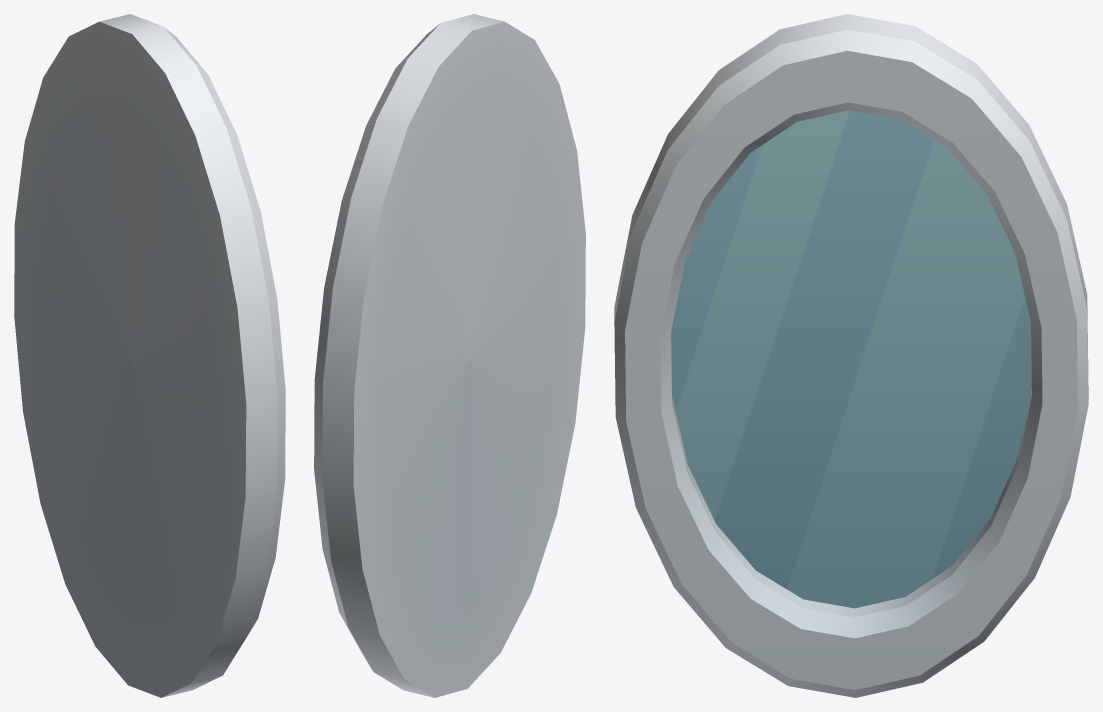
File: Mirror.glb
3 renders of one model, left to right at view 1: azimuth 30°, elevation 25°; view 2: azimuth 150°, elevation 25°; view 3: azimuth 270°, elevation 25°, orthographic. The views are drawn at different scales.
Visible parts, largest first — view 1: mirror; view 2: mirror; view 3: mirror.
Part boxes in pixels (left/top/right/bottom): mirror: left=14, top=14, right=285, bottom=697; mirror: left=314, top=14, right=585, bottom=697; mirror: left=614, top=14, right=1088, bottom=697.
Size of the model in its own units: 0.1 by 1.4 by 0.9.
1 material, 1 textured.
